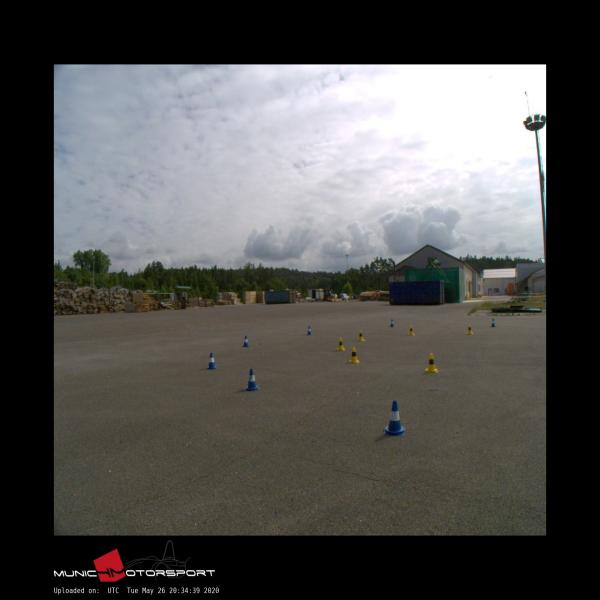blue_cone: (383, 400, 405, 436), (243, 368, 260, 390), (206, 353, 218, 368), (242, 336, 250, 346), (306, 326, 312, 335), (491, 319, 496, 327), (390, 319, 394, 327)
yellow_cone: (425, 352, 437, 372), (350, 347, 358, 363), (337, 337, 344, 350), (357, 330, 364, 340), (408, 325, 414, 335), (466, 324, 472, 333)
